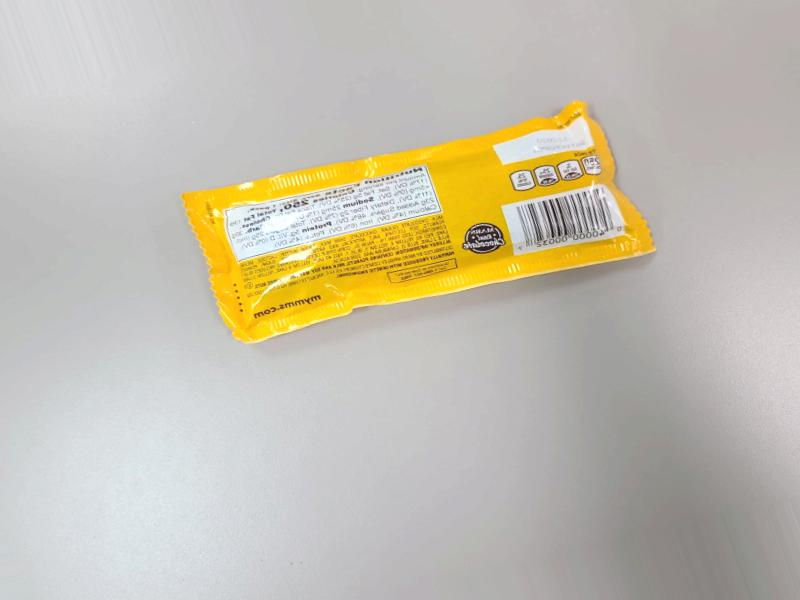m&m: (161, 107, 654, 351)
